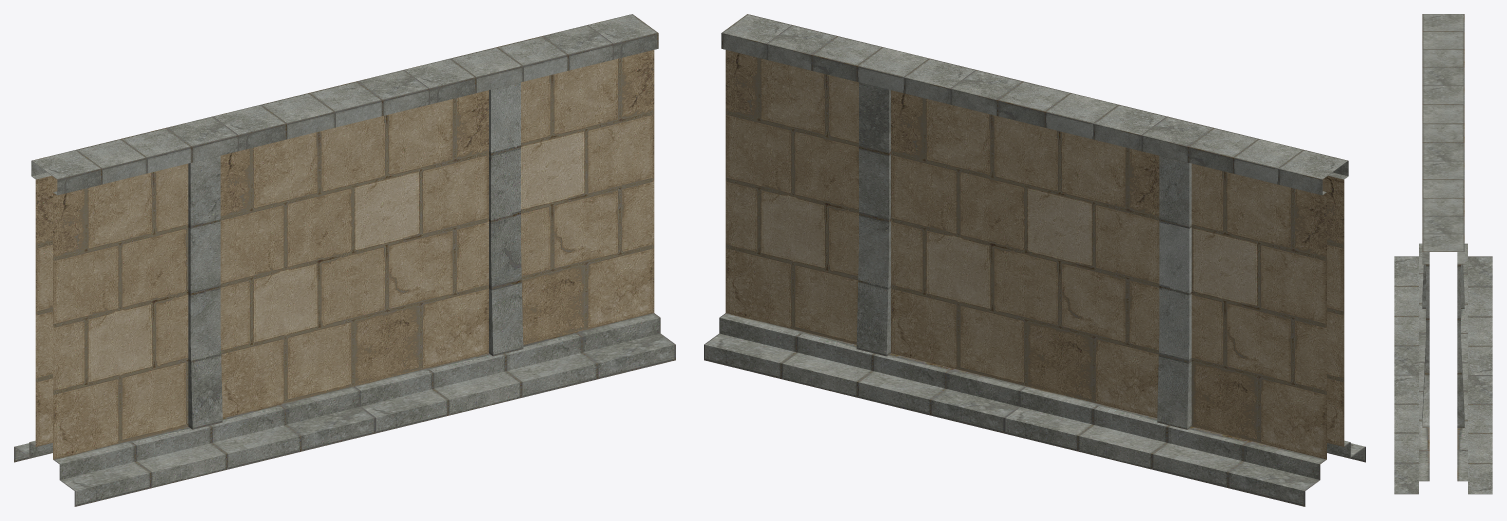
File: wall_4U.fbx
The picture shows the model from 3 angles, left to right: view 1: azimuth 30°, elevation 25°; view 2: azimuth 150°, elevation 25°; view 3: azimuth 270°, elevation 25°; orthographic projection. The views are drawn at different scales.
Parts seen in each view (by area): view 1: wall_4U; view 2: wall_4U; view 3: wall_4U.
Boxes of the visible parts, x1,y1,x2,y2 form: wall_4U: (14,14,675,506); wall_4U: (704,14,1365,506); wall_4U: (1394,14,1492,494).
Size of the model in its own units: 400 by 200 by 70.
